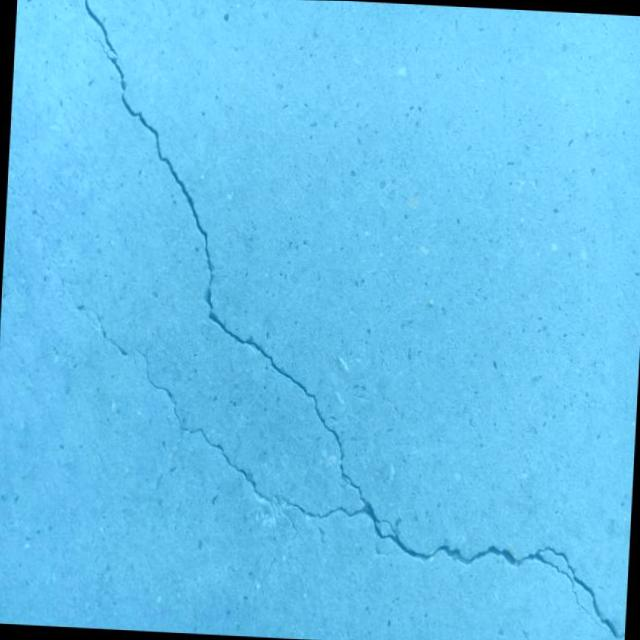crack: (45, 0, 640, 639), (62, 284, 130, 355)
